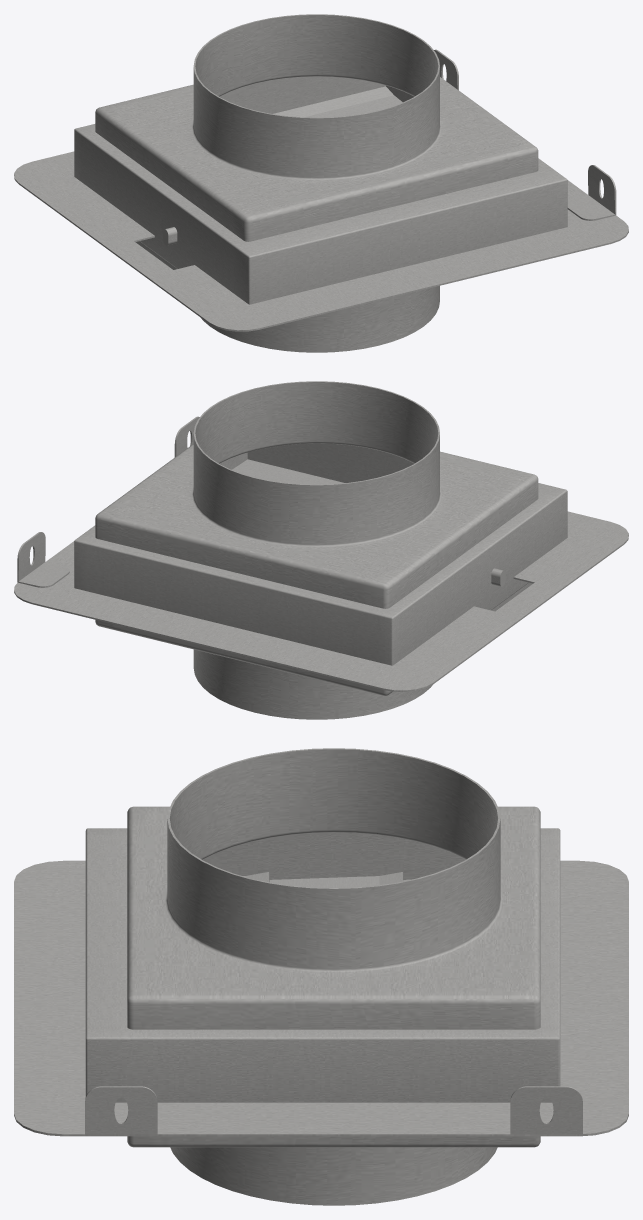
Rendered from DamperEndCap.gltf.
3 views of the same model, one above another, from view 1: azimuth 30°, elevation 25°; view 2: azimuth 150°, elevation 25°; view 3: azimuth 270°, elevation 25° (orthographic). The views are drawn at different scales.
Parts seen in each view (by area): view 1: Plane.007, Plane.001, Plane.005, Plane.006, Plane; view 2: Plane.007, Plane.001, Plane.005, Plane.006, Plane; view 3: Plane.007, Plane.001, Plane.005, Plane.006, Plane.
Part boxes in pixels (x1=…): Plane.007: x1=95, y1=14, x2=538, y2=352; Plane.001: x1=74, y1=76, x2=567, y2=304; Plane.005: x1=14, y1=151, x2=628, y2=331; Plane.006: x1=434, y1=49, x2=616, y2=220; Plane: x1=273, y1=86, x2=402, y2=117; Plane.007: x1=95, y1=381, x2=538, y2=719; Plane.001: x1=74, y1=443, x2=567, y2=665; Plane.005: x1=14, y1=511, x2=628, y2=691; Plane.006: x1=17, y1=416, x2=199, y2=587; Plane: x1=232, y1=459, x2=344, y2=484; Plane.007: x1=127, y1=748, x2=540, y2=1205; Plane.001: x1=85, y1=828, x2=560, y2=1102; Plane.005: x1=14, y1=860, x2=628, y2=1136; Plane.006: x1=85, y1=1086, x2=582, y2=1134; Plane: x1=243, y1=872, x2=410, y2=887.
Bounding box in the file's own units: 2.77 × 1.5 × 2.63.
3 materials, 2 textured.
